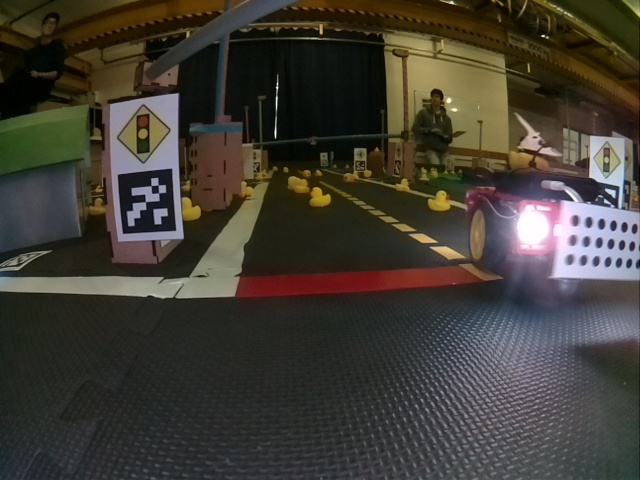Duckie: (428, 191, 451, 212), (182, 197, 200, 220), (309, 188, 330, 206), (290, 178, 309, 193), (89, 199, 105, 215), (344, 173, 352, 182)
Duckiebot: (467, 175, 638, 281)
QR code: (117, 170, 175, 237), (393, 161, 403, 176)
Signal sign: (115, 101, 173, 166), (592, 139, 620, 175)
